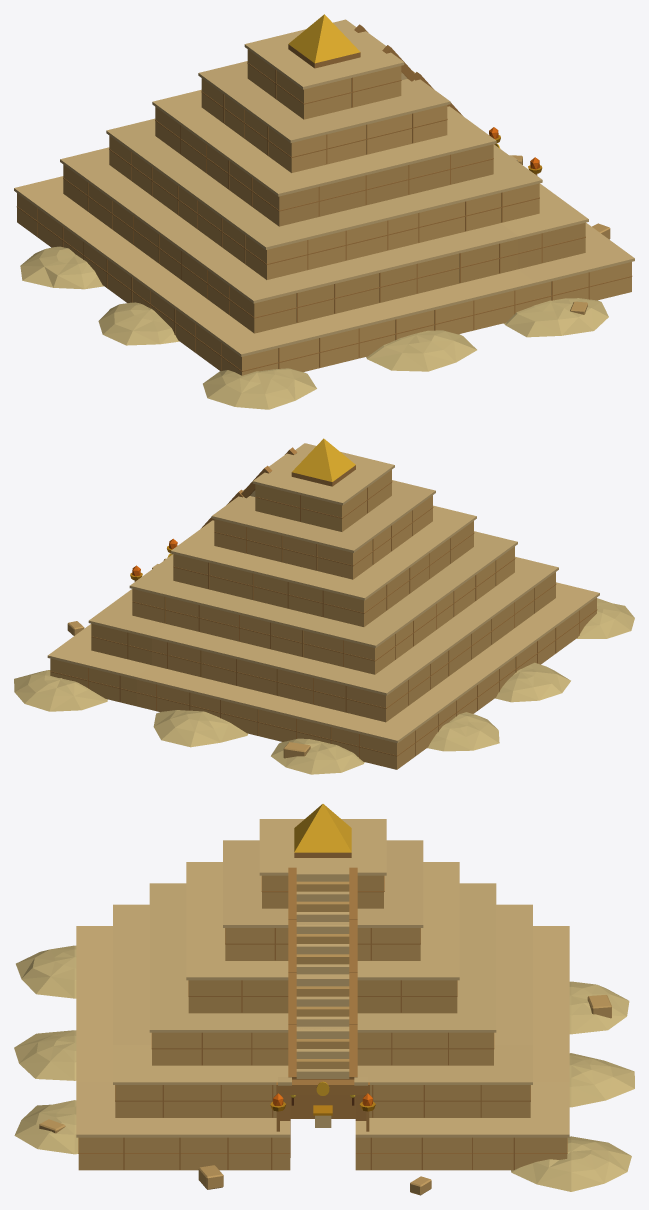
3 views of the same model, one above another, from view 1: azimuth 30°, elevation 25°; view 2: azimuth 150°, elevation 25°; view 3: azimuth 270°, elevation 25° (orthographic). The views are drawn at different scales.
Visible parts, largest first — view 1: pyramid; view 2: pyramid; view 3: pyramid.
Part boxes in pixels (x1,y1,x2,y2): pyramid: (14,14,634,409); pyramid: (14,438,634,774); pyramid: (14,804,634,1195).
Size of the model in its own units: 30.36 by 14.35 by 30.51.
